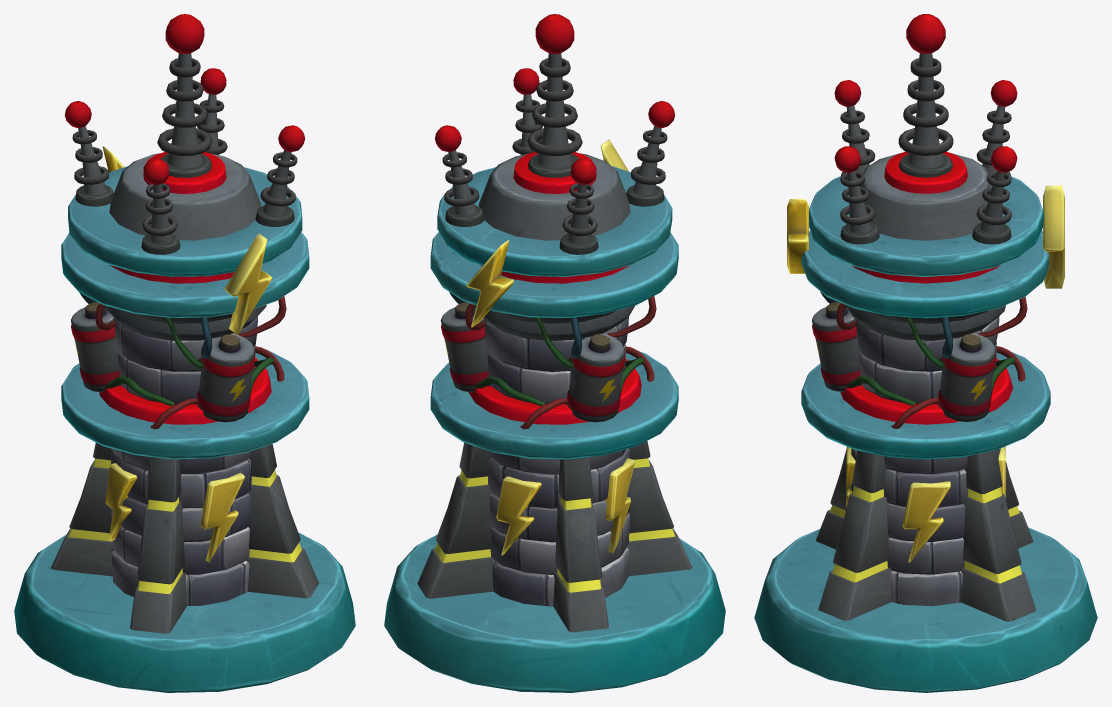
The model's file is SM_TowerDefense_Electric_Lv4.fbx.
The picture shows the model from 3 angles, left to right: view 1: azimuth 30°, elevation 25°; view 2: azimuth 150°, elevation 25°; view 3: azimuth 270°, elevation 25°; orthographic projection.
Parts seen in each view (by area): view 1: SM_TowerDefense_Electric_Lv4; view 2: SM_TowerDefense_Electric_Lv4; view 3: SM_TowerDefense_Electric_Lv4.
Part boxes in pixels (box(x1,y1,x2,y2)): SM_TowerDefense_Electric_Lv4: box(14, 14, 355, 692); SM_TowerDefense_Electric_Lv4: box(384, 14, 725, 692); SM_TowerDefense_Electric_Lv4: box(754, 14, 1097, 692).
Size of the model in its own units: 973 by 1898 by 973.
